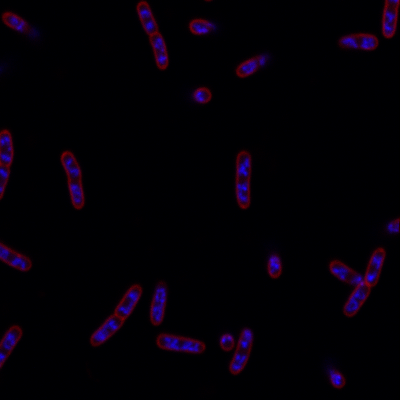Control: (88, 283, 144, 345), (340, 246, 387, 315), (134, 1, 172, 71), (59, 149, 87, 211), (228, 329, 255, 374), (155, 333, 207, 355), (235, 147, 252, 212)
Oblique: (325, 257, 366, 288), (334, 30, 381, 52), (233, 51, 272, 77), (149, 281, 171, 326), (185, 18, 223, 38), (324, 367, 347, 389), (188, 85, 213, 105), (266, 250, 283, 278), (217, 332, 238, 352)
